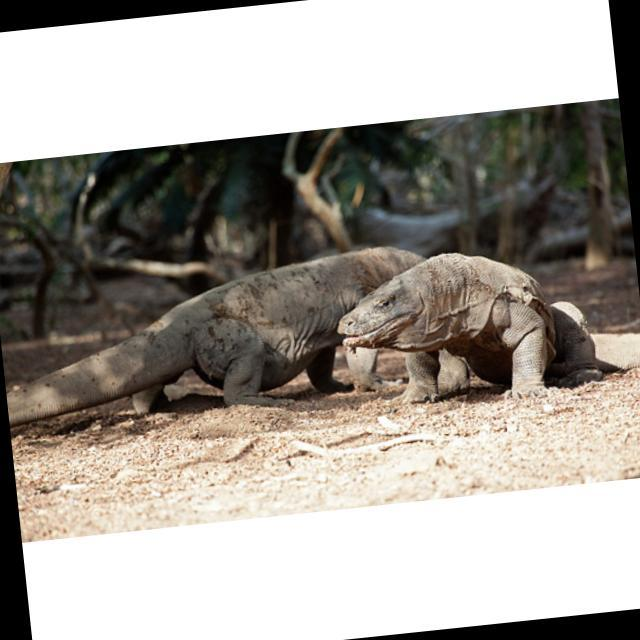KomodoDragon: (0, 239, 439, 435), (325, 228, 640, 421)
